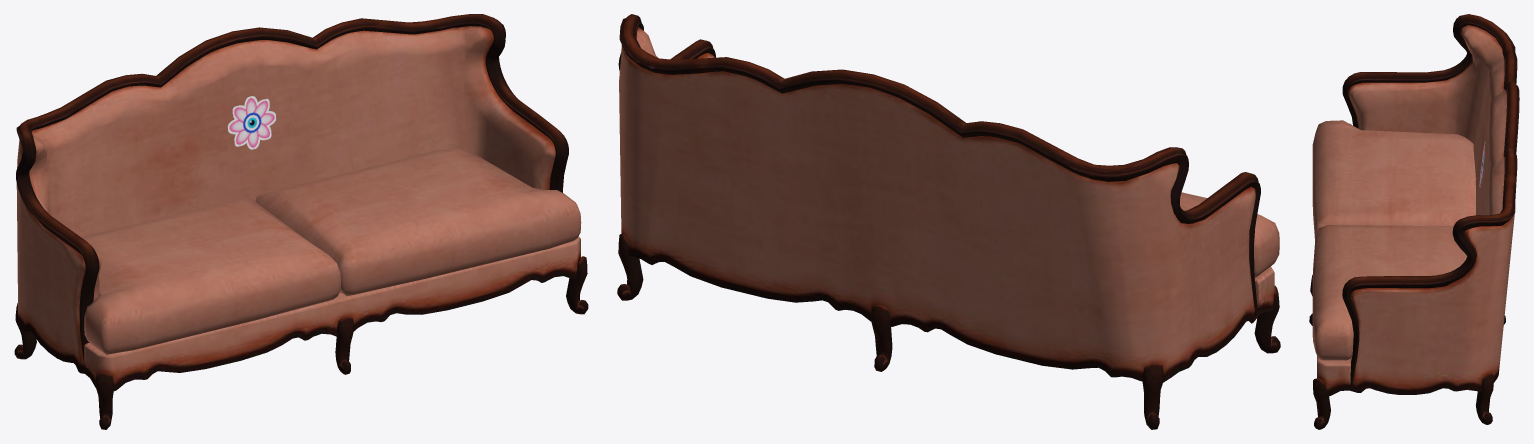
File: nyb_network_sofa.glb
3 views of the same model, side by side, from view 1: azimuth 30°, elevation 25°; view 2: azimuth 150°, elevation 25°; view 3: azimuth 270°, elevation 25° (orthographic). The views are drawn at different scales.
Visible parts, largest first — view 1: Sofa_01, stk_eyeflower_die.png; view 2: Sofa_01; view 3: Sofa_01.
Boxes of the visible parts, x1,y1,x2,y2 form: Sofa_01: [14, 14, 588, 429]; stk_eyeflower_die.png: [227, 96, 276, 149]; Sofa_01: [617, 14, 1280, 429]; Sofa_01: [1309, 14, 1519, 429].
Size of the model in its own units: 1.57 by 0.7965 by 0.658.
Materials: 2 (2 with a texture image).
